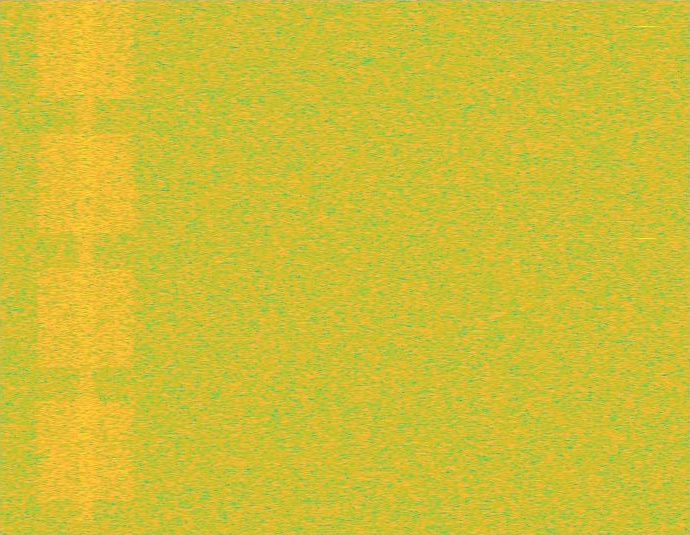5G: (34, 0, 138, 534)
DSSS: (74, 0, 98, 534)
Radar: (639, 0, 653, 534)
